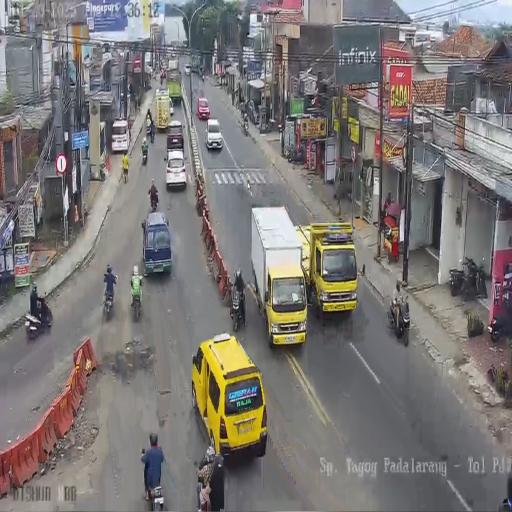3: (250, 205, 304, 347), (297, 219, 357, 325), (154, 90, 170, 131), (165, 68, 182, 105), (144, 52, 152, 74)
car: (191, 333, 267, 464), (142, 213, 172, 276), (165, 150, 187, 191), (111, 118, 130, 154), (204, 118, 223, 150), (166, 126, 184, 154), (197, 96, 210, 120), (192, 62, 201, 75), (168, 98, 174, 116), (184, 64, 191, 75)
truck: (449, 255, 485, 300), (388, 288, 410, 346), (489, 300, 512, 343), (230, 282, 246, 332), (130, 278, 143, 320), (287, 143, 305, 165), (103, 282, 114, 316), (149, 193, 158, 212), (141, 146, 148, 165), (242, 116, 248, 135), (149, 126, 155, 144), (146, 116, 151, 134), (201, 72, 204, 83), (160, 73, 162, 86)
